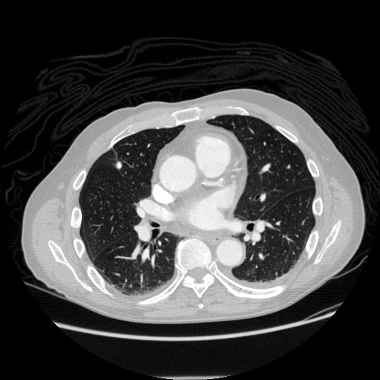nodule: (114, 161, 122, 169)
